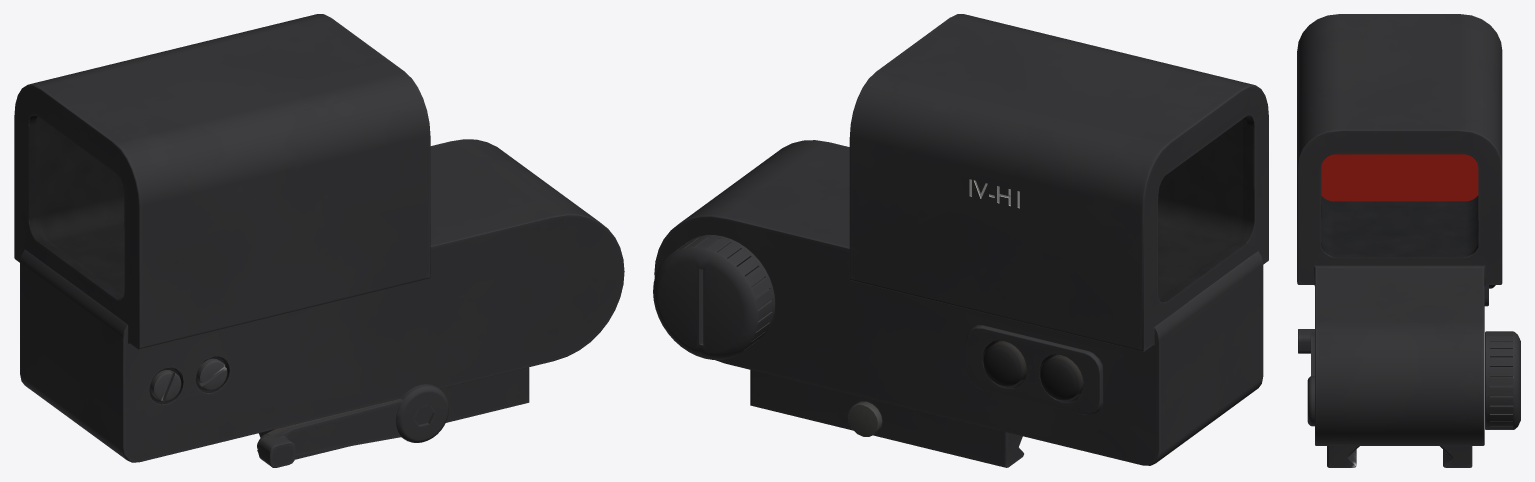
The model's file is SM_IVH1_Holo.fbx.
3 views of the same model, side by side, from view 1: azimuth 30°, elevation 25°; view 2: azimuth 150°, elevation 25°; view 3: azimuth 270°, elevation 25° (orthographic). The views are drawn at different scales.
Parts seen in each view (by area): view 1: SM_IVH1_Holo; view 2: SM_IVH1_Holo; view 3: SM_IVH1_Holo, IVH1_Reticle.
Part boxes in pixels (x1,y1,x2,y2): SM_IVH1_Holo: (14, 14, 624, 467); SM_IVH1_Holo: (653, 14, 1268, 467); SM_IVH1_Holo: (1297, 14, 1520, 467); IVH1_Reticle: (1321, 154, 1478, 201).
Size of the model in its own units: 9.8 by 6.69 by 4.62.
4 materials, 2 textured.
